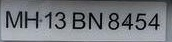character: (5, 10, 23, 29), (23, 10, 39, 29), (87, 11, 103, 30), (71, 11, 86, 30), (53, 10, 66, 30), (120, 12, 134, 30), (147, 12, 161, 30), (134, 12, 147, 31), (107, 12, 120, 30), (44, 11, 52, 29)
